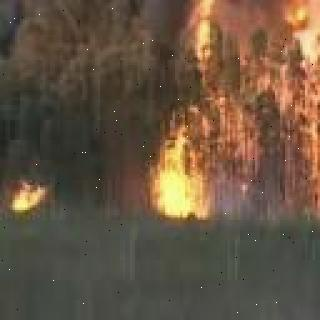fire: (268, 0, 320, 224), (148, 88, 214, 222), (15, 180, 43, 215)
